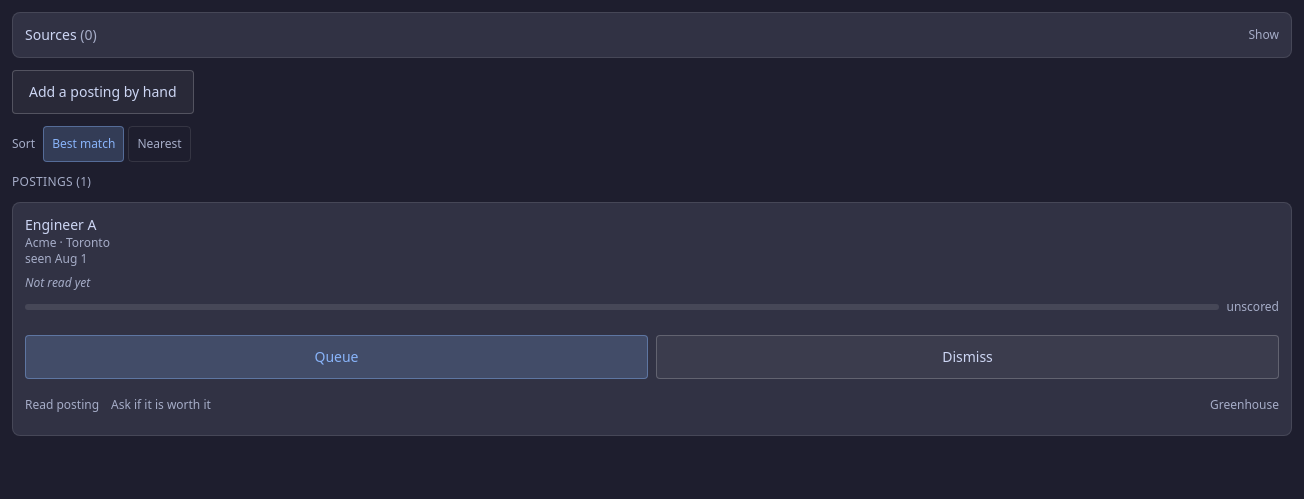
Feed decisions › hands the card back, with the reason, when the write fails
Expected: the text "Engineer A" is shown, [25,215,96,234]
Click the button "Queue".
click(336, 357)  # box [25,335,648,379]
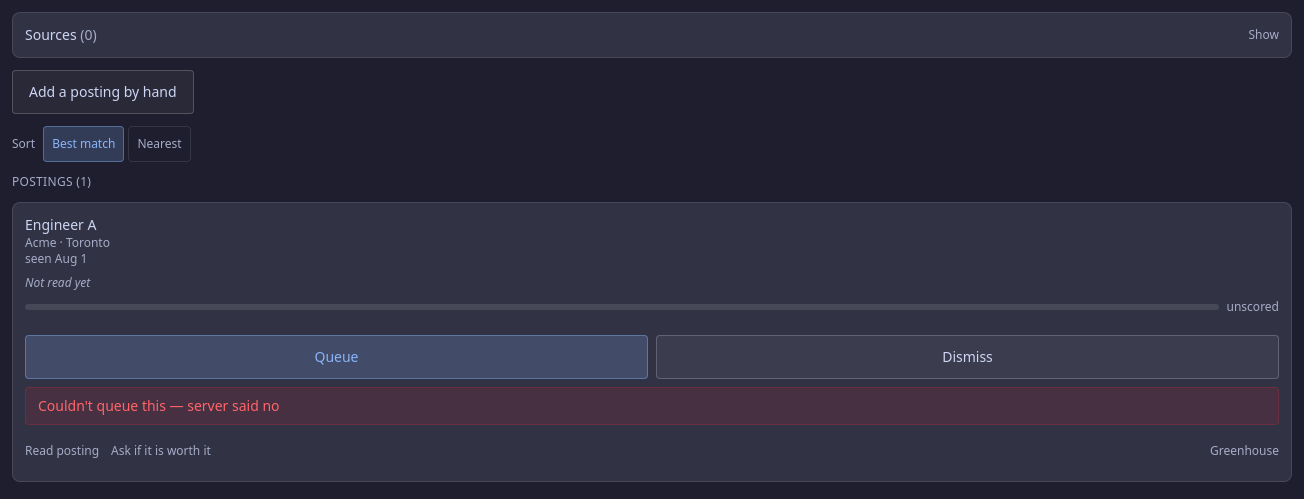
Expected: the text "Engineer A" is shown, [25,215,96,234]
Result: the text "Couldn't queue this — server said no" is shown at [38,396,280,415]
